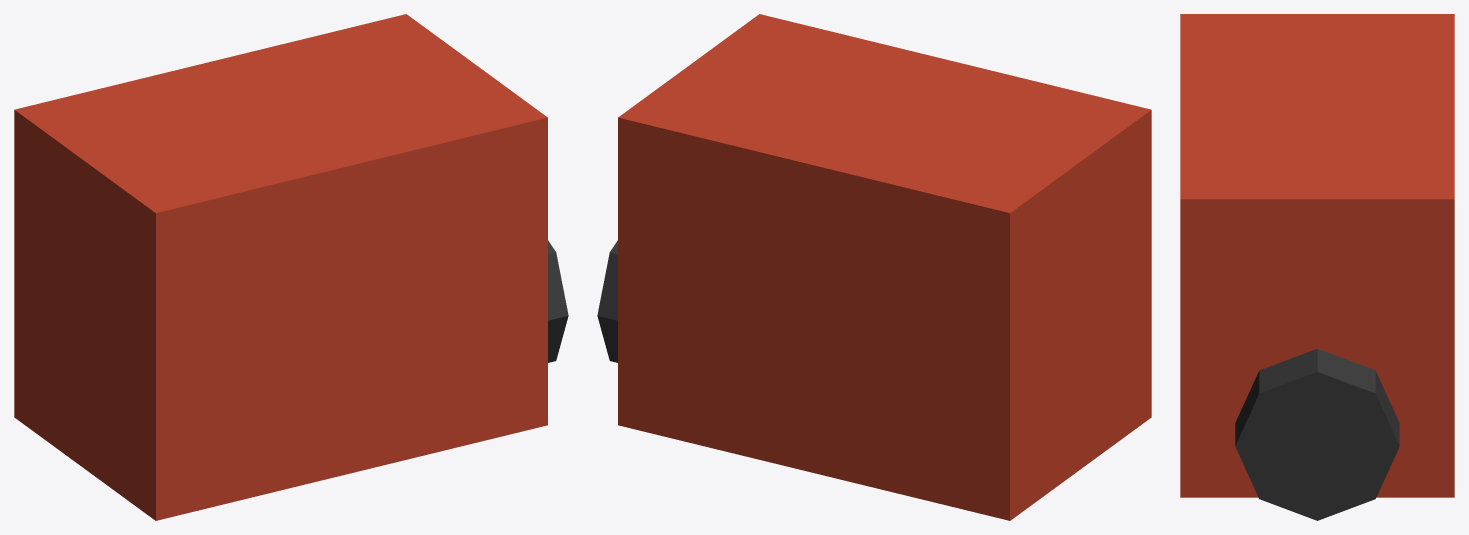
File: conforme-materiel.glb
3 views of the same model, side by side, from view 1: azimuth 30°, elevation 25°; view 2: azimuth 150°, elevation 25°; view 3: azimuth 270°, elevation 25° (orthographic). The views are drawn at different scales.
Visible parts, largest first — view 1: objet.001, objet.002; view 2: objet.001, objet.002; view 3: objet.001, objet.002.
Part boxes in pixels (bbox=[...]): objet.001: bbox=[14, 14, 547, 520]; objet.002: bbox=[548, 240, 568, 362]; objet.001: bbox=[618, 14, 1151, 520]; objet.002: bbox=[597, 240, 617, 362]; objet.001: bbox=[1180, 14, 1454, 497]; objet.002: bbox=[1235, 348, 1399, 520].
Bounding box in the file's own units: 1.8 × 1.2 × 1.
